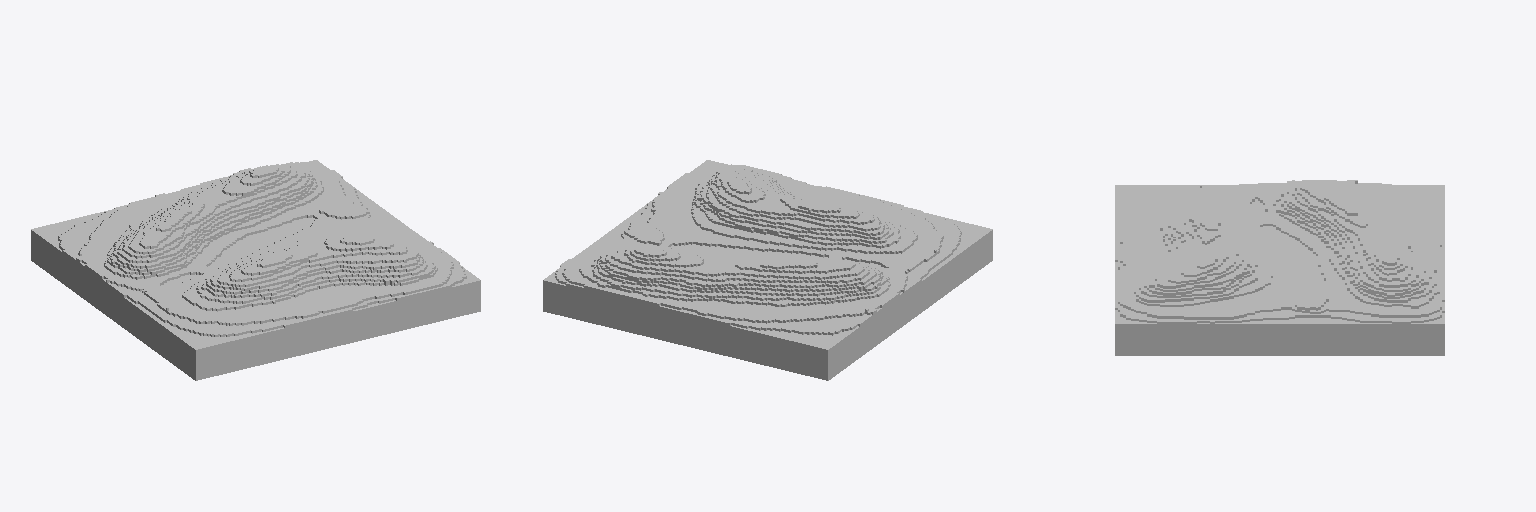
Rendered from Map (12).obj.
3 views of the same model, side by side, from view 1: azimuth 30°, elevation 25°; view 2: azimuth 150°, elevation 25°; view 3: azimuth 270°, elevation 25° (orthographic).
Parts seen in each view (by area): view 1: ALL MAP!!!!!!!!!!!-9; view 2: ALL MAP!!!!!!!!!!!-9; view 3: ALL MAP!!!!!!!!!!!-9.
Boxes of the visible parts, <box> form: ALL MAP!!!!!!!!!!!-9: <box>31,160,480,380</box>; ALL MAP!!!!!!!!!!!-9: <box>543,160,992,380</box>; ALL MAP!!!!!!!!!!!-9: <box>1115,180,1444,355</box>.
Size of the model in its own units: 125 by 25 by 125.